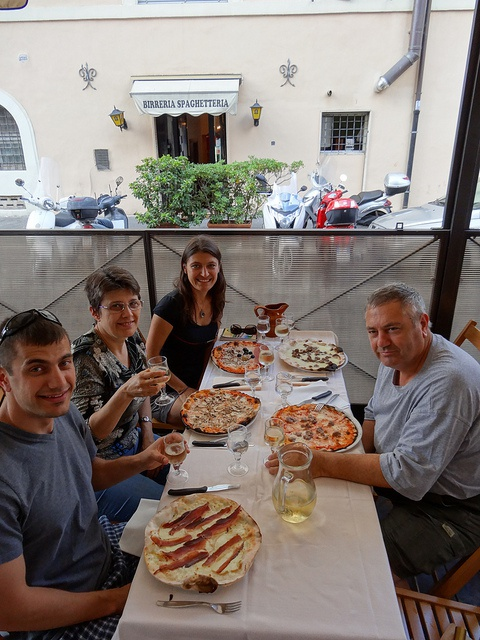non-vehicle: (301, 159, 410, 229), (61, 165, 127, 229), (10, 175, 69, 231), (255, 171, 306, 229), (316, 173, 358, 229)
